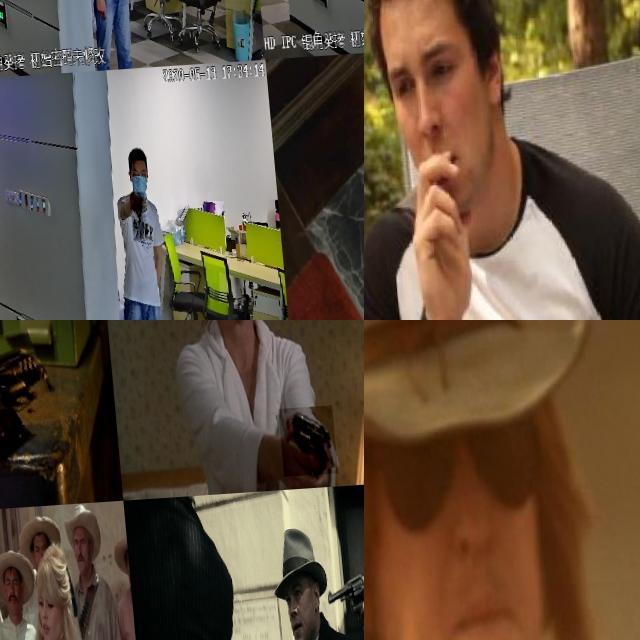-: (364, 220, 417, 320)
gun-knife-thesis - v11 Yolov5 augmented: (0, 334, 69, 483), (306, 559, 364, 640), (274, 413, 332, 484), (122, 194, 138, 244), (109, 0, 141, 17)
